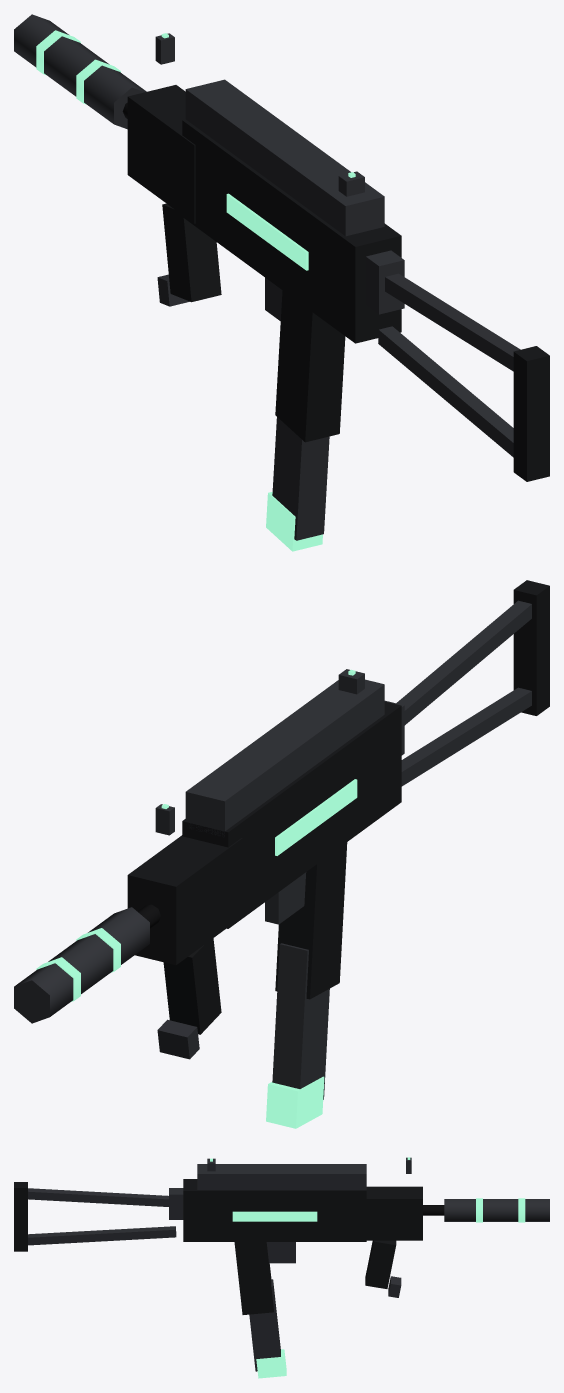
File: Vesper_SMG.glb
3 views of the same model, one above another, from view 1: azimuth 30°, elevation 25°; view 2: azimuth 150°, elevation 25°; view 3: azimuth 270°, elevation 25° (orthographic). The views are drawn at different scales.
Parts seen in each view (by area): view 1: Vesper_SMG; view 2: Vesper_SMG; view 3: Vesper_SMG.
Boxes of the visible parts, x1,y1,x2,y2 form: Vesper_SMG: [14, 14, 549, 551]; Vesper_SMG: [14, 580, 549, 1128]; Vesper_SMG: [14, 1157, 549, 1378].
Bounding box in the file's own units: 0.044 × 0.3389 × 0.76.
